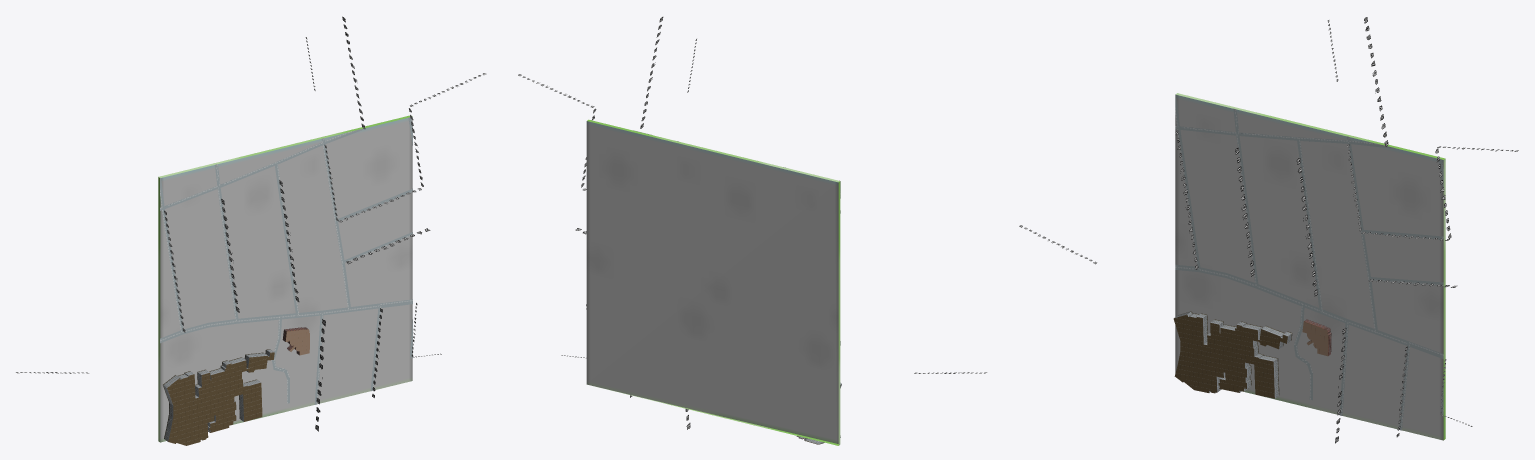
3 views of the same model, side by side, from view 1: azimuth 30°, elevation 25°; view 2: azimuth 150°, elevation 25°; view 3: azimuth 330°, elevation 25° (orthographic). The views are drawn at different scales.
Visible parts, largest first — view 1: POLYGON, BUILDING, POLYLINE, FONT; view 2: POLYGON, FONT; view 3: POLYGON, BUILDING, POLYLINE, FONT.
Boxes of the visible parts, x1,y1,x2,y2 form: POLYGON: (158, 115, 412, 442); BUILDING: (163, 327, 309, 445); POLYLINE: (160, 117, 412, 404); FONT: (16, 16, 486, 431); POLYGON: (586, 119, 840, 445); FONT: (518, 17, 986, 429); POLYGON: (1175, 93, 1445, 440); BUILDING: (1173, 311, 1331, 398); POLYLINE: (1175, 94, 1443, 430); FONT: (1019, 17, 1518, 443).
Size of the model in its own units: 1140 by 947 by 28.
Materials: 4 (4 with a texture image).
